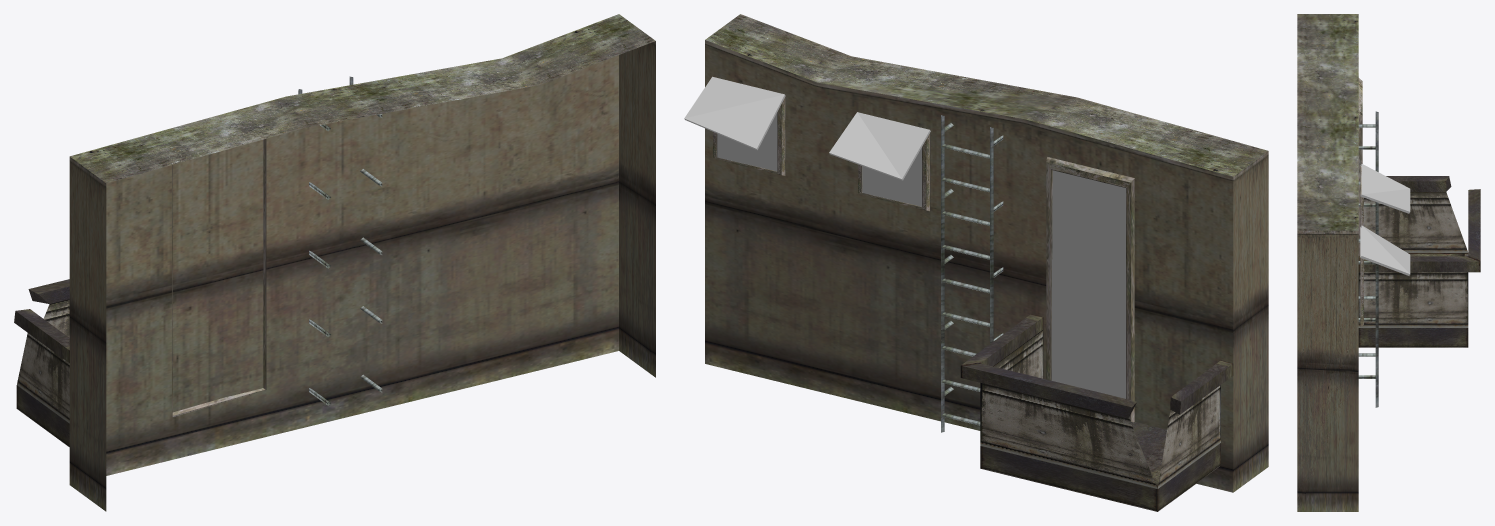
The model's file is Store_front_14_E.fbx.
3 views of the same model, side by side, from view 1: azimuth 30°, elevation 25°; view 2: azimuth 150°, elevation 25°; view 3: azimuth 270°, elevation 25° (orthographic). The views are drawn at different scales.
Visible parts, largest first — view 1: Store_front_14_E; view 2: Store_front_14_E; view 3: Store_front_14_E.
Part boxes in pixels (x1,y1,x2,y2): Store_front_14_E: (14,14,655,511); Store_front_14_E: (684,14,1268,511); Store_front_14_E: (1297,14,1480,511).
Size of the model in its own units: 700 by 410 by 243.
